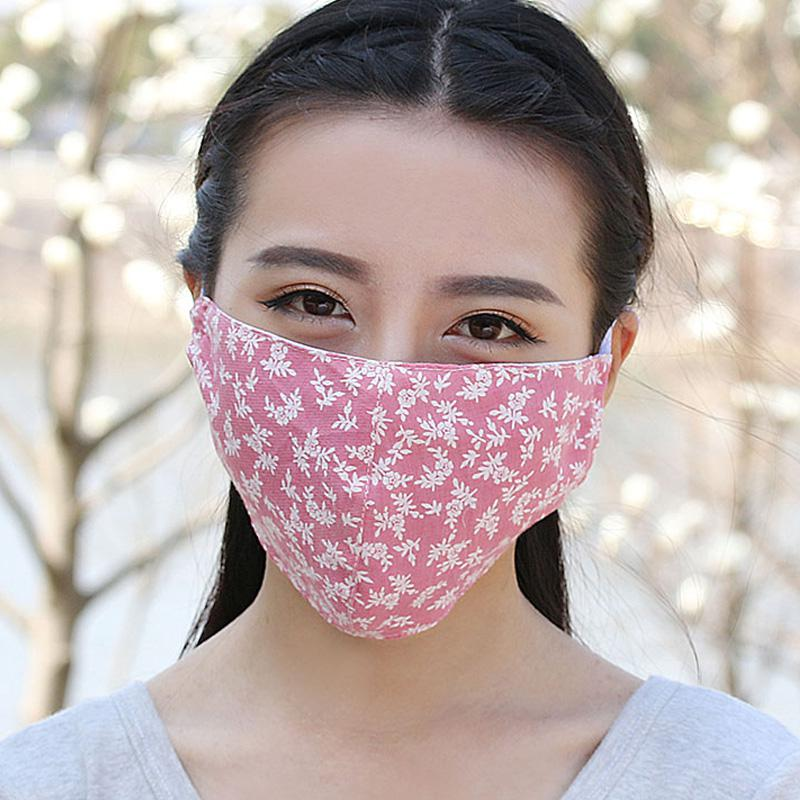OK: (198, 240, 593, 635)
